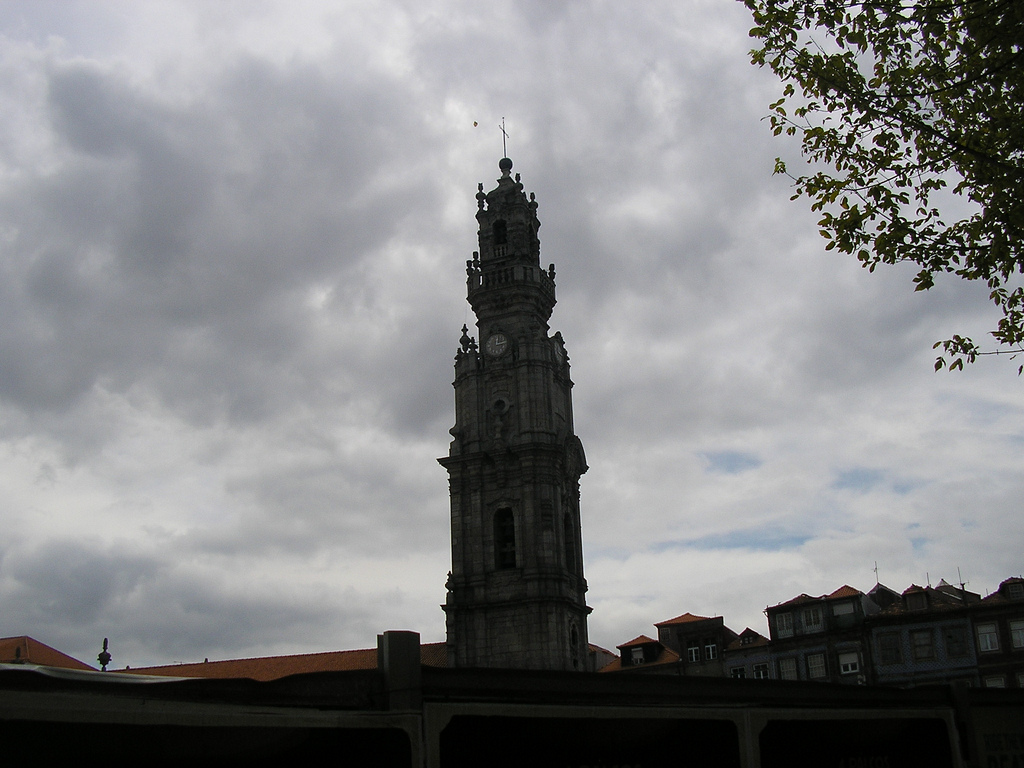clerigos: (436, 118, 594, 674)
